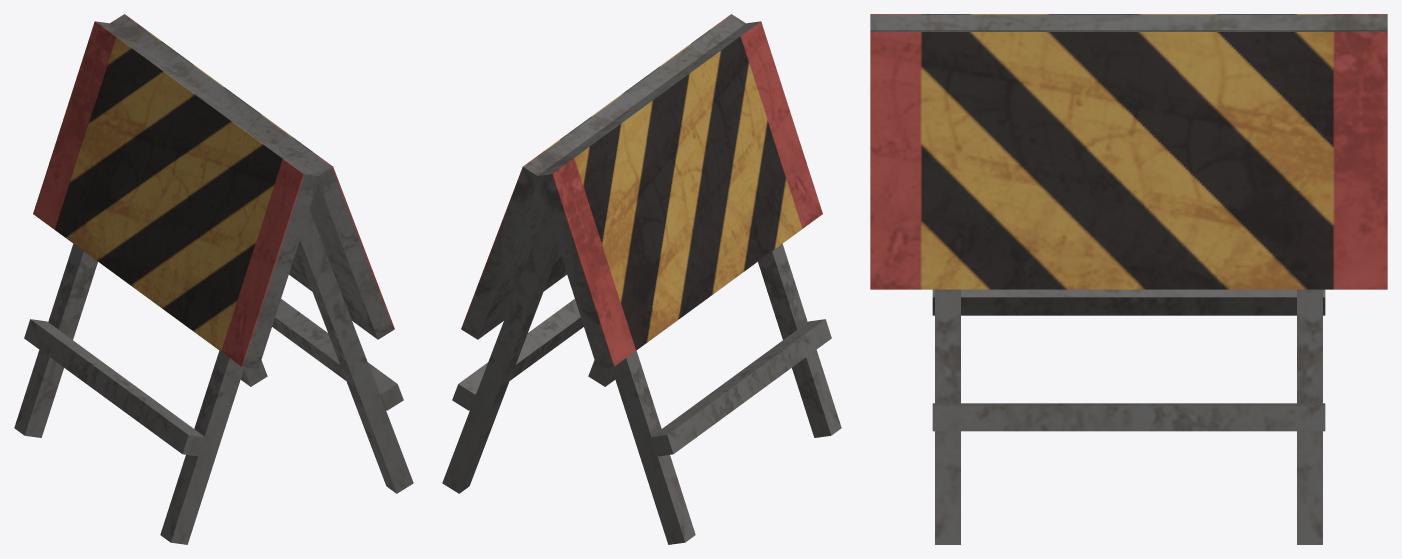
File: safefence.FBX
3 renders of one model, left to right at view 1: azimuth 30°, elevation 25°; view 2: azimuth 150°, elevation 25°; view 3: azimuth 270°, elevation 25°, orthographic. The views are drawn at different scales.
Visible parts, largest first — view 1: safe_fence; view 2: safe_fence; view 3: safe_fence.
Boxes of the visible parts, x1,y1,x2,y2 form: safe_fence: (14,14,413,544); safe_fence: (442,14,841,544); safe_fence: (870,14,1387,544).
Size of the model in its own units: 135 by 195 by 200.
1 material, 1 textured.
